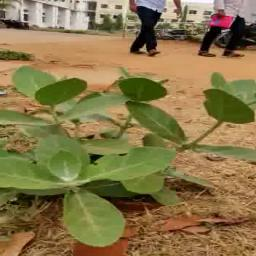CALOTROPIS: (8, 72, 255, 227)
